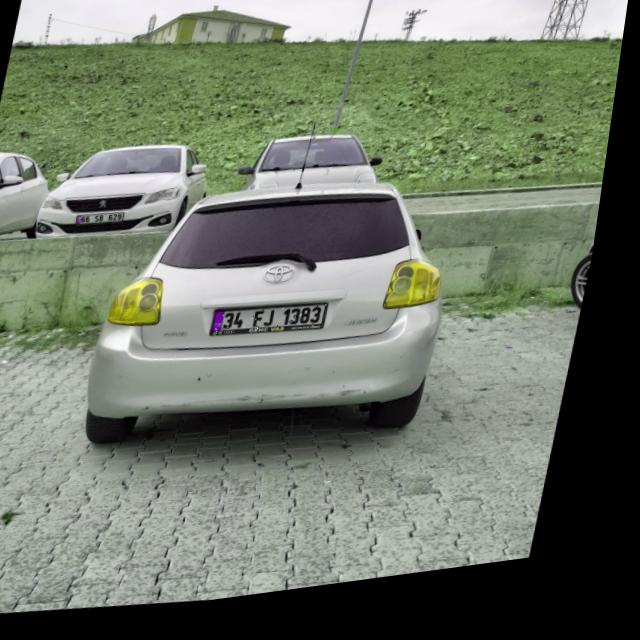license_plate: (221, 307, 337, 347)
